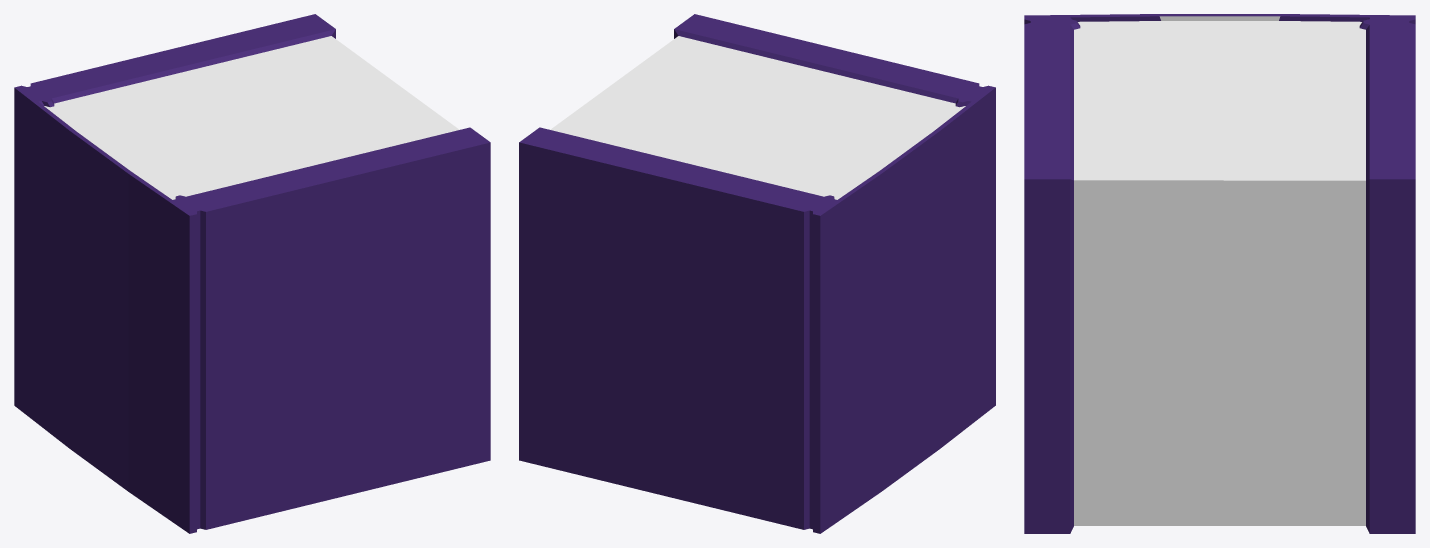
File: book-4.glb
3 renders of one model, left to right at view 1: azimuth 30°, elevation 25°; view 2: azimuth 150°, elevation 25°; view 3: azimuth 270°, elevation 25°, orthographic. The views are drawn at different scales.
Parts seen in each view (by area): view 1: Architexture_0, Architexture_1; view 2: Architexture_0, Architexture_1; view 3: Architexture_1, Architexture_0.
Boxes of the visible parts, left/top/right/bottom form: Architexture_0: left=14, top=14, right=490, bottom=533; Architexture_1: left=44, top=36, right=459, bottom=199; Architexture_0: left=519, top=14, right=995, bottom=533; Architexture_1: left=550, top=36, right=965, bottom=199; Architexture_1: left=1074, top=16, right=1365, bottom=525; Architexture_0: left=1024, top=14, right=1415, bottom=533.
Bounding box in the file's own units: 1 × 1 × 1.
